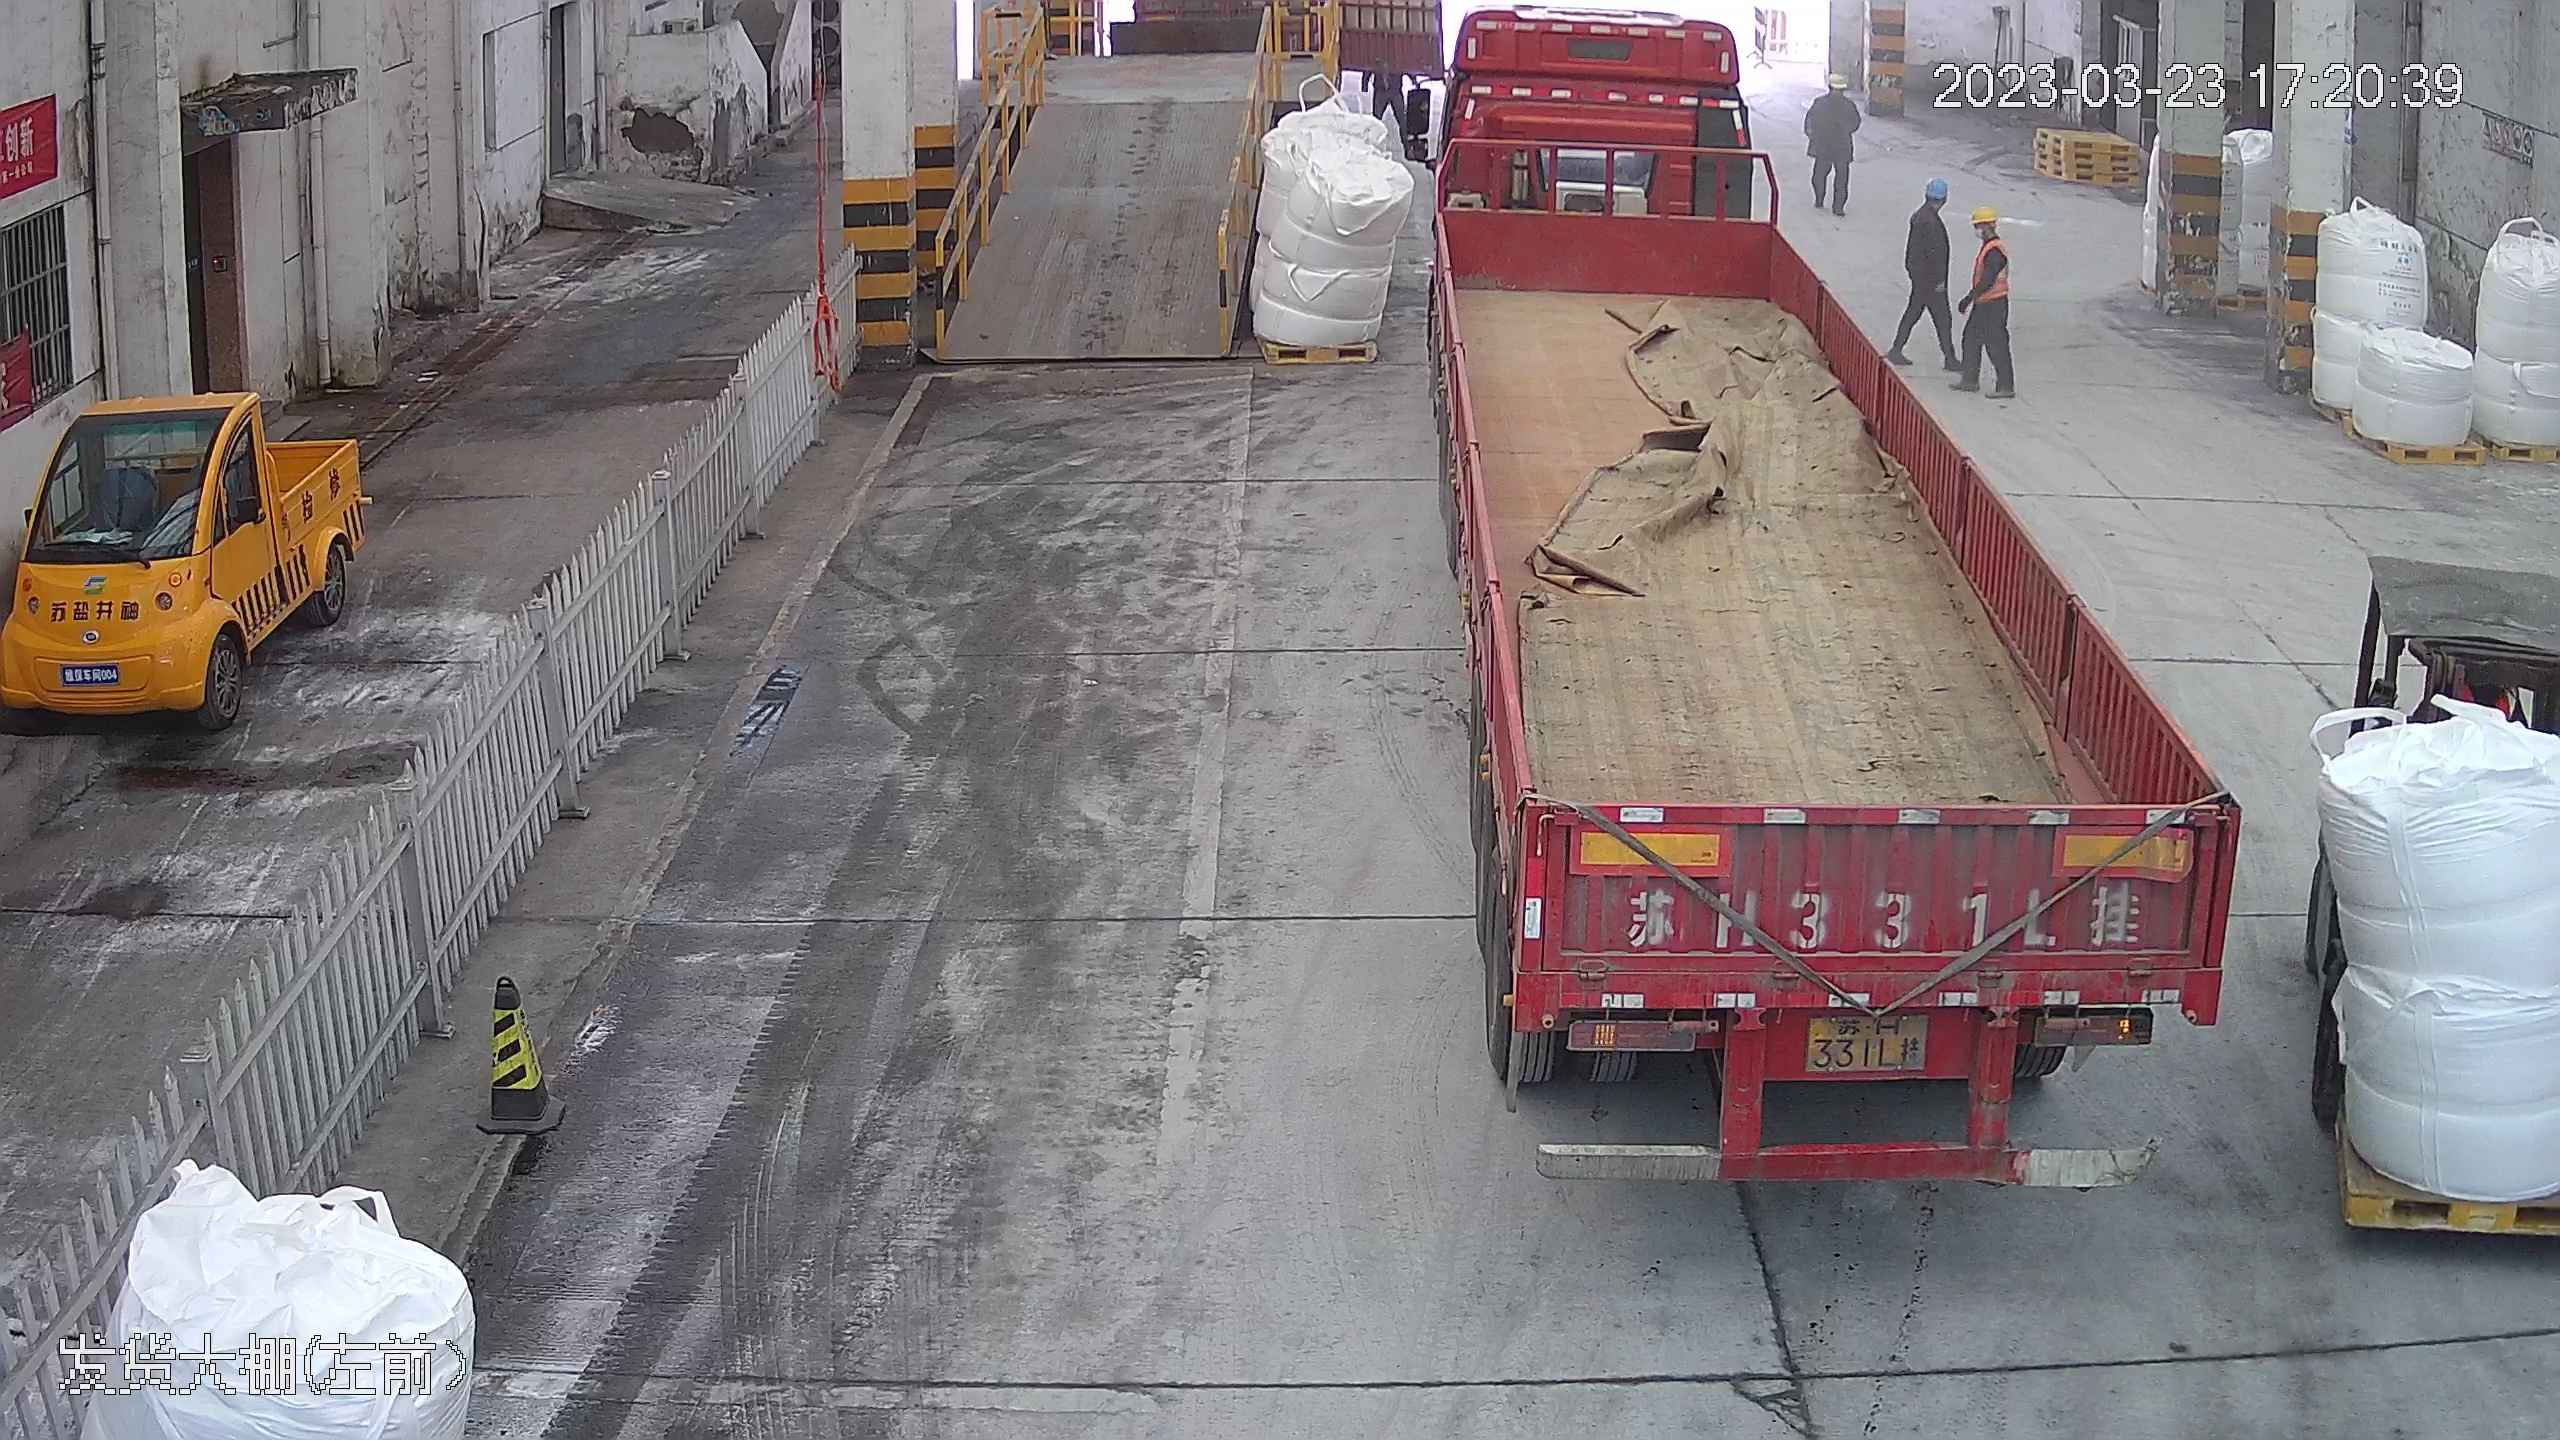head: (1963, 201, 2012, 267), (1905, 177, 1952, 233), (1809, 69, 1856, 119)
helmet: (1970, 201, 2005, 225), (1920, 175, 1949, 200), (1822, 66, 1845, 85)
people: (1953, 198, 2022, 402), (1897, 181, 1959, 376), (1803, 65, 1863, 218)
truck: (1409, 15, 2265, 1194)
